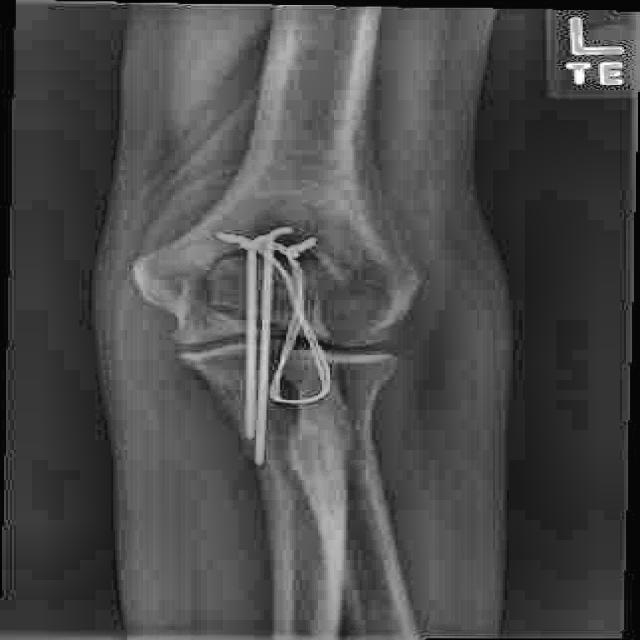elbow positive: (153, 269, 351, 355)
